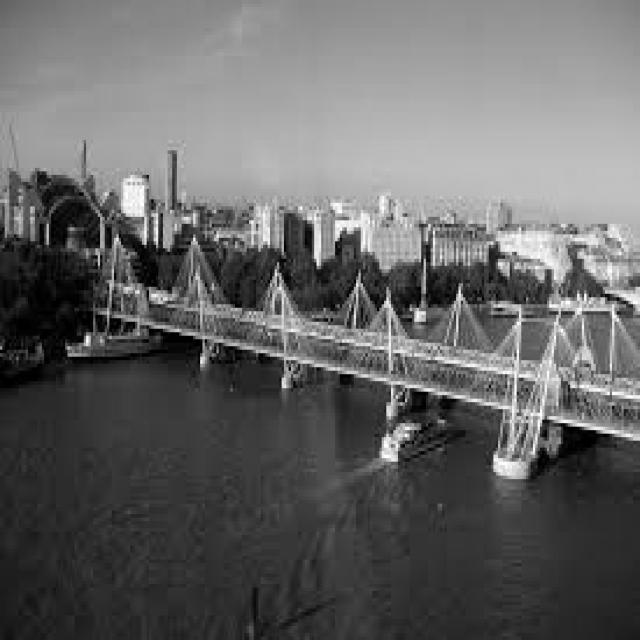Bridges: (79, 210, 636, 514)
